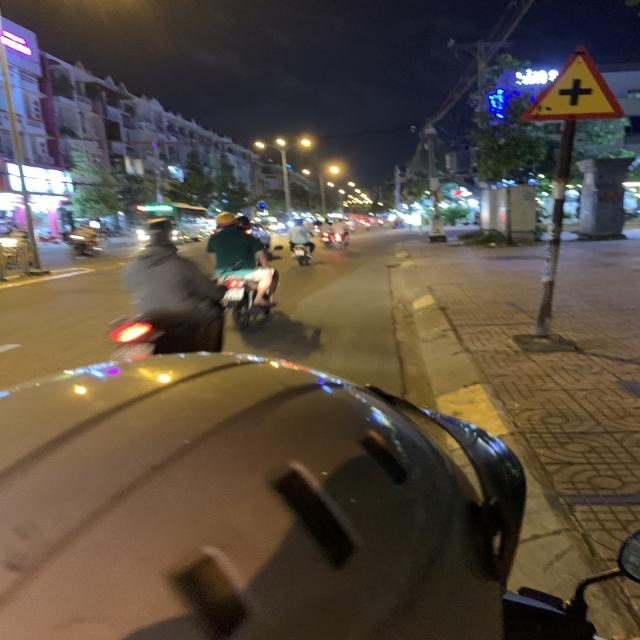bien_cam: (515, 45, 624, 123)
